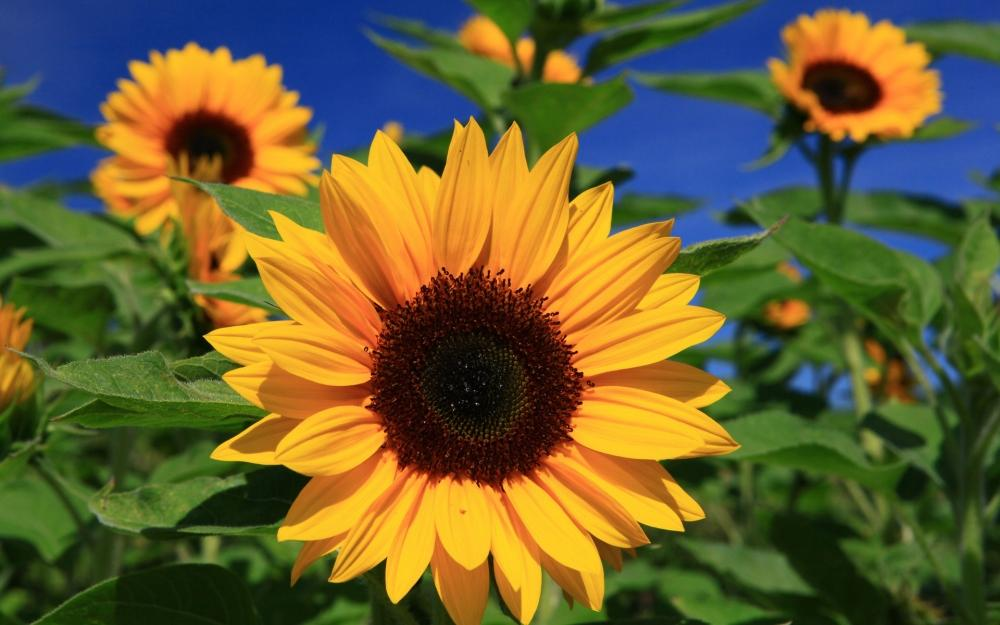sunflower: (201, 114, 742, 622), (766, 7, 942, 143)
